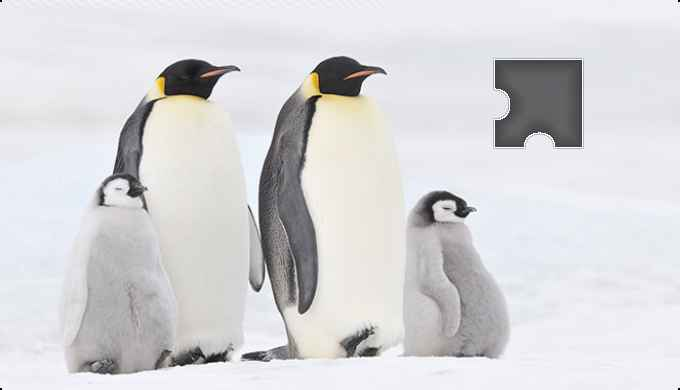gap: (494, 60, 582, 149)
